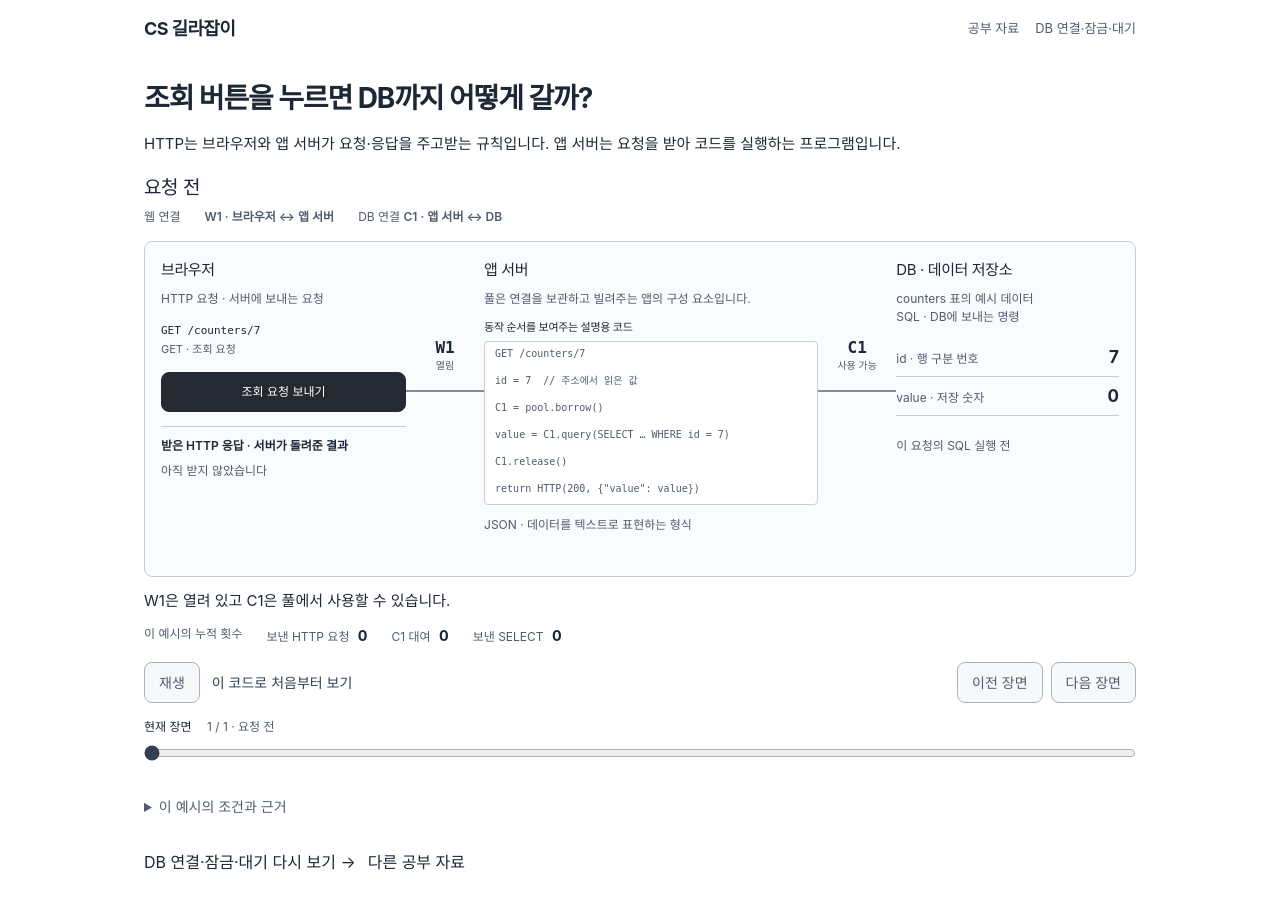
Scenario: web request lesson › does not offer a no-op close or comparison from a historical received frame
Click the button "조회 요청 보내기" at [284, 392], box top-left (161, 372), bottom-right (406, 412)
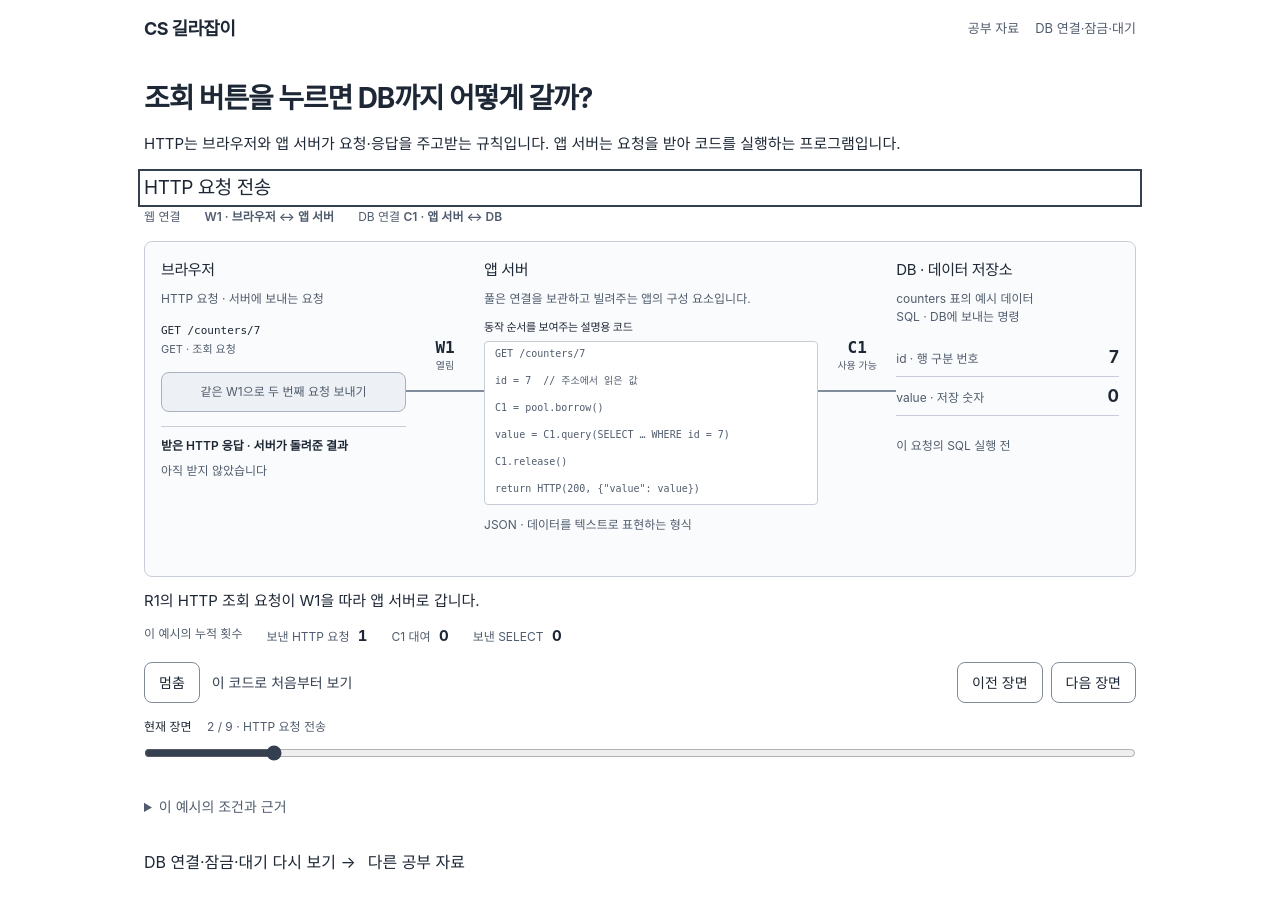
Set the slider labelled "현재 장면 2 / 9 · HTTP 요청 전송" to "8" at [1128, 753], box top-left (144, 737), bottom-right (1136, 769)
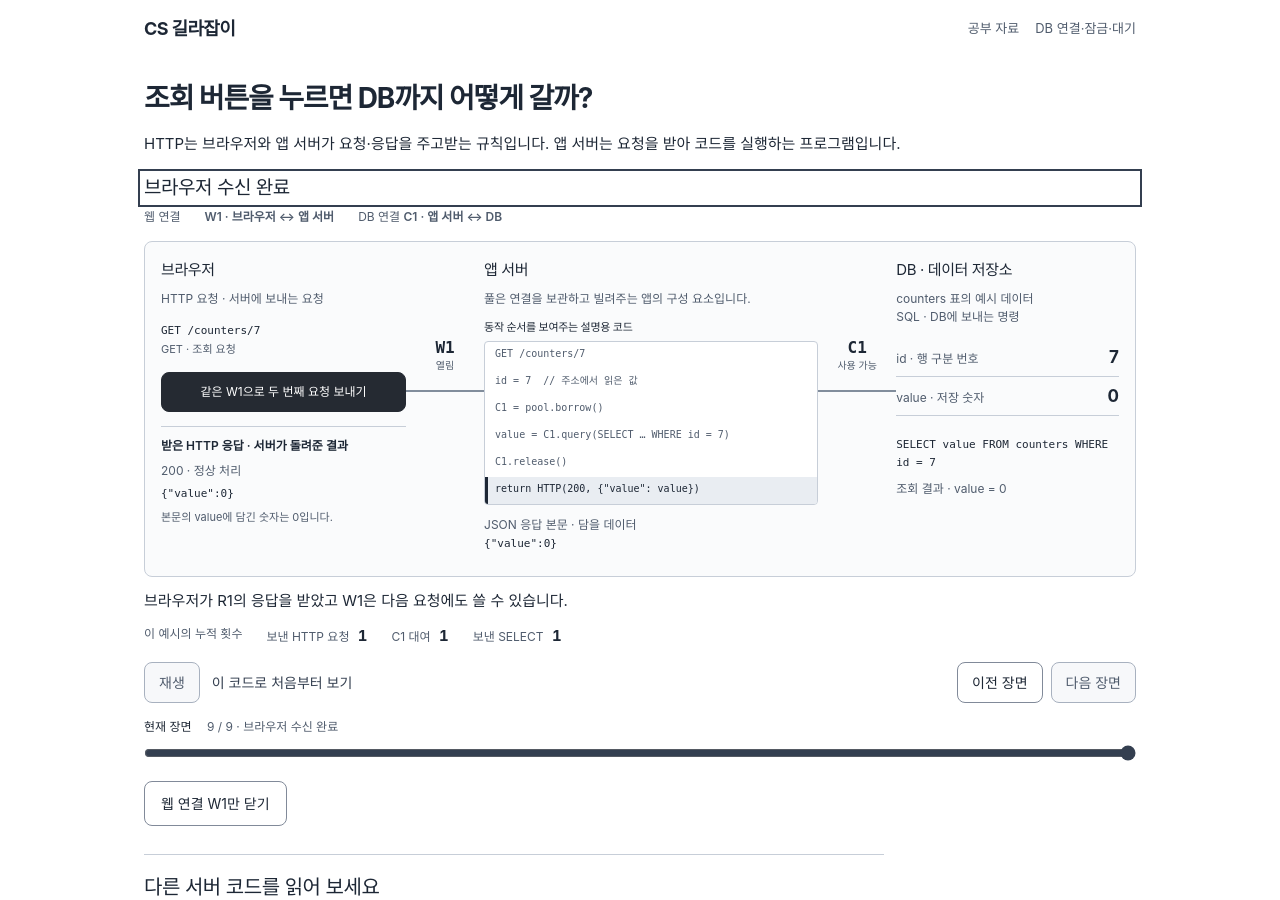
Click the button "같은 W1으로 두 번째 요청 보내기" at [284, 392], box top-left (161, 372), bottom-right (406, 412)
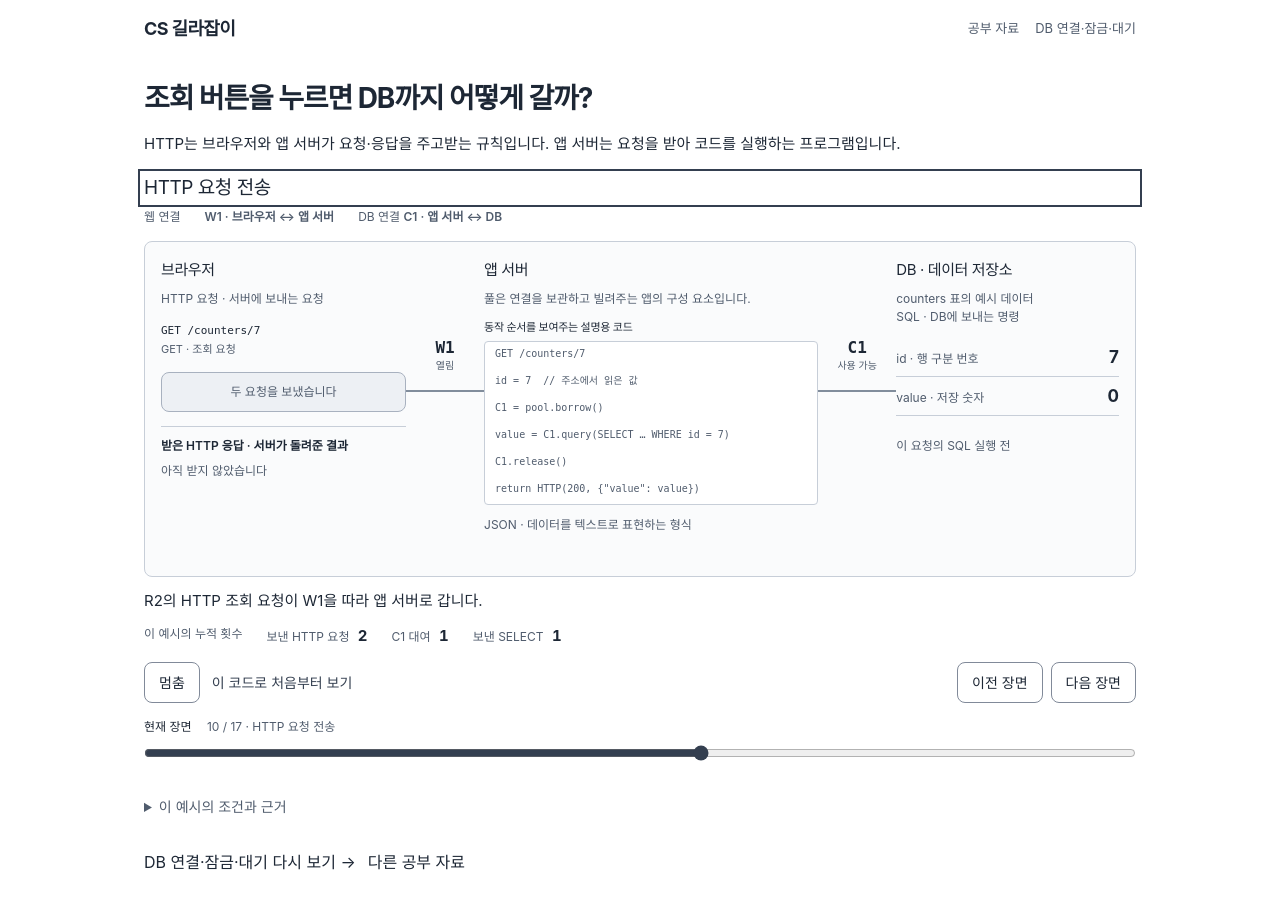
Set the slider labelled "현재 장면 10 / 17 · HTTP 요청 전송" to "16" at [1128, 753], box top-left (144, 737), bottom-right (1136, 769)
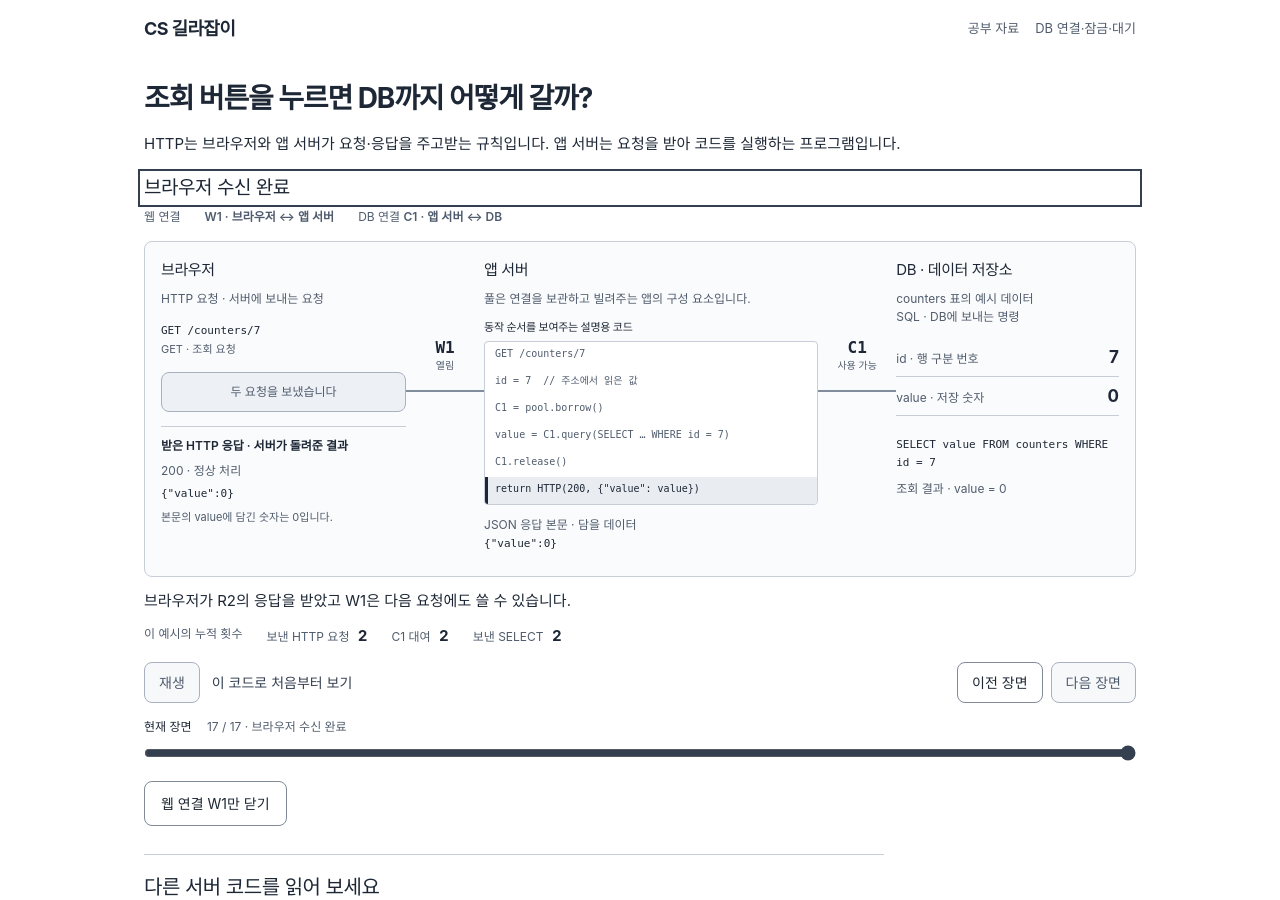
Set the slider labelled "현재 장면 17 / 17 · 브라우저 수신 완료" to "8" at [640, 753], box top-left (144, 737), bottom-right (1136, 769)
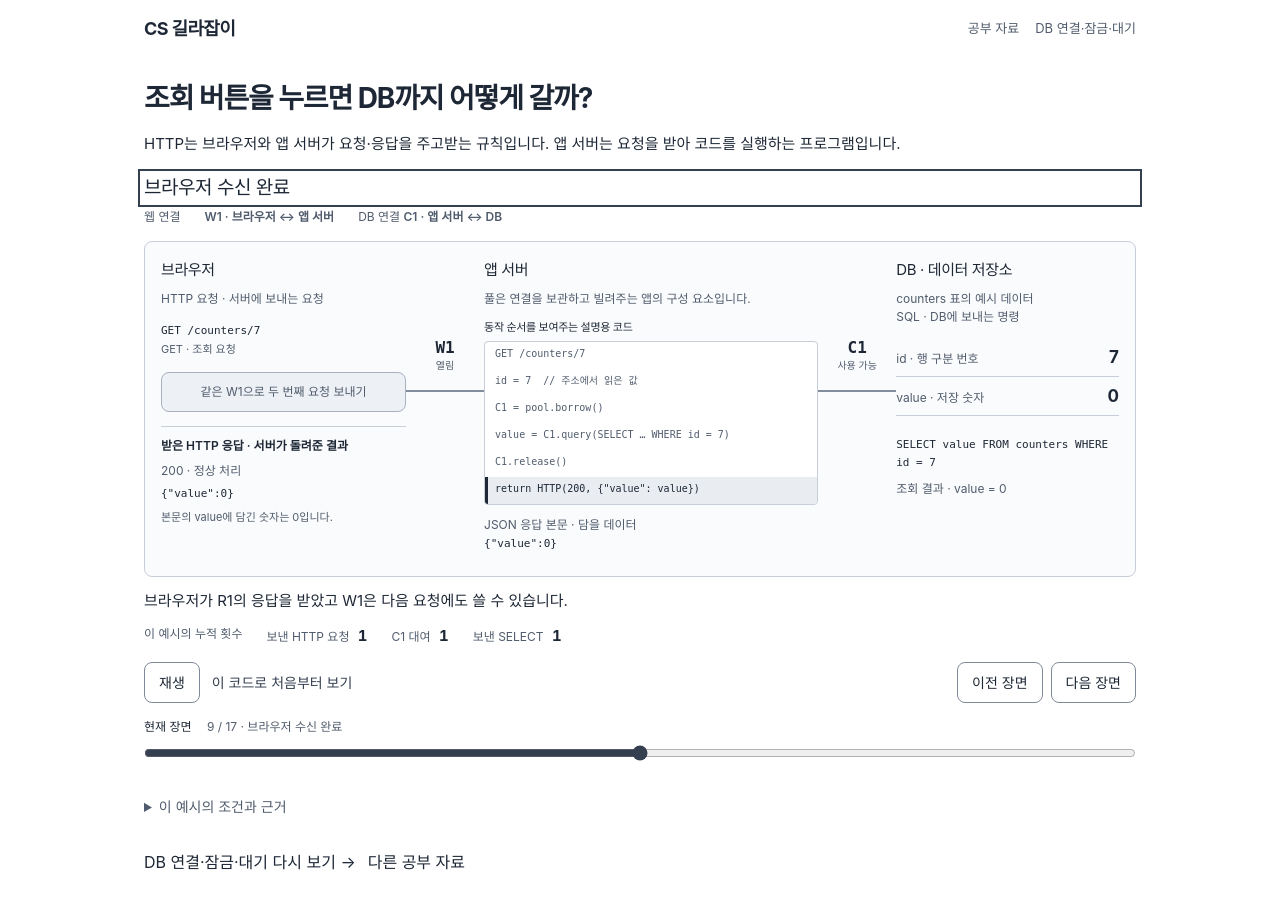
Now the button "웹 연결 W1만 닫기" is gone
